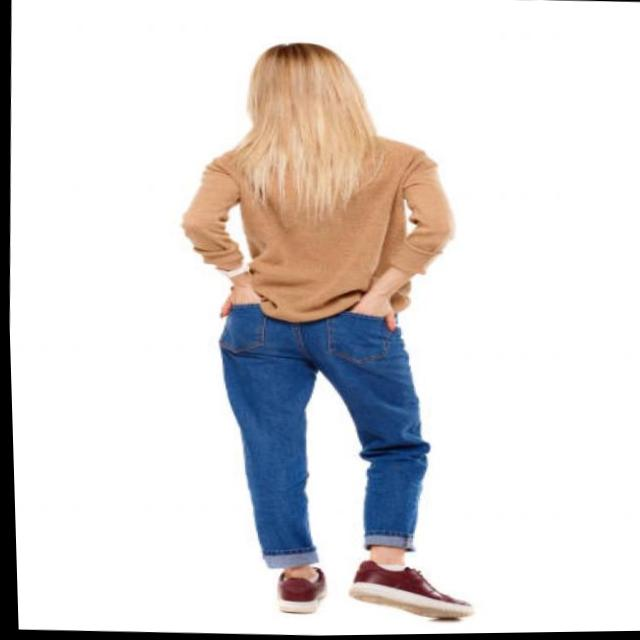no helmet: (237, 28, 387, 149)
